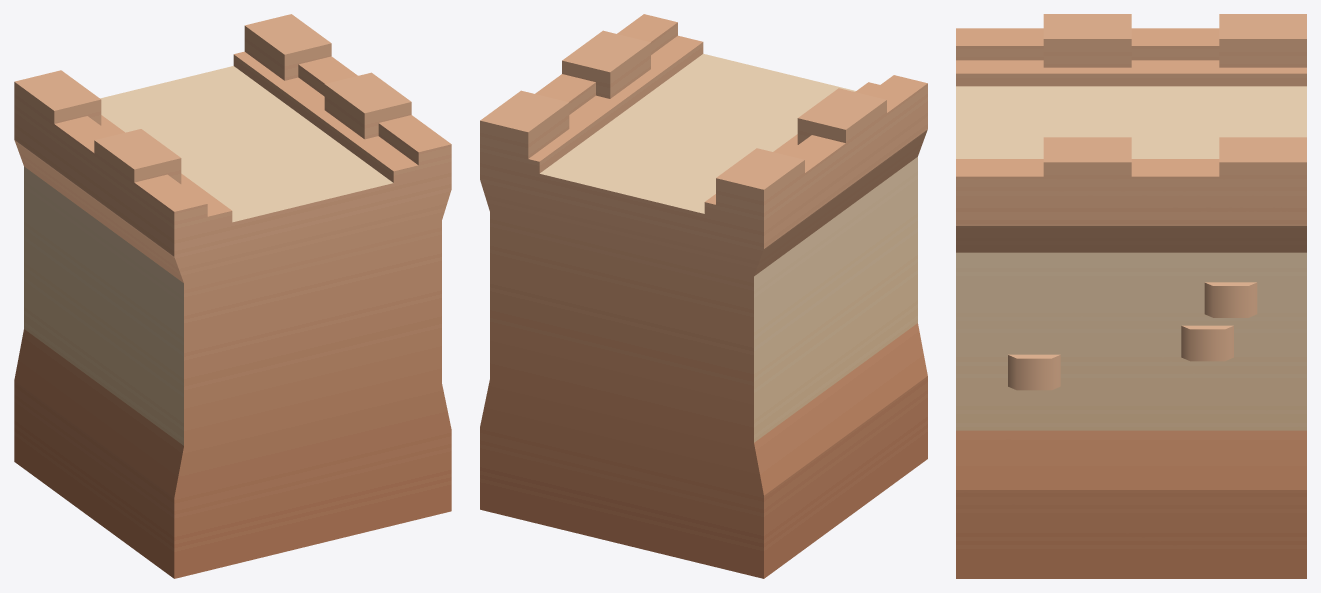
File: wall.glb
The picture shows the model from 3 angles, left to right: view 1: azimuth 30°, elevation 25°; view 2: azimuth 150°, elevation 25°; view 3: azimuth 270°, elevation 25°; orthographic projection. The views are drawn at different scales.
Visible parts, largest first — view 1: wall; view 2: wall; view 3: wall.
Boxes of the visible parts, left/top/right/bottom form: wall: left=14, top=14, right=451, bottom=578; wall: left=480, top=14, right=927, bottom=578; wall: left=956, top=14, right=1306, bottom=578.
Size of the model in its own units: 1 by 1.31 by 1.
1 material, 1 textured.
